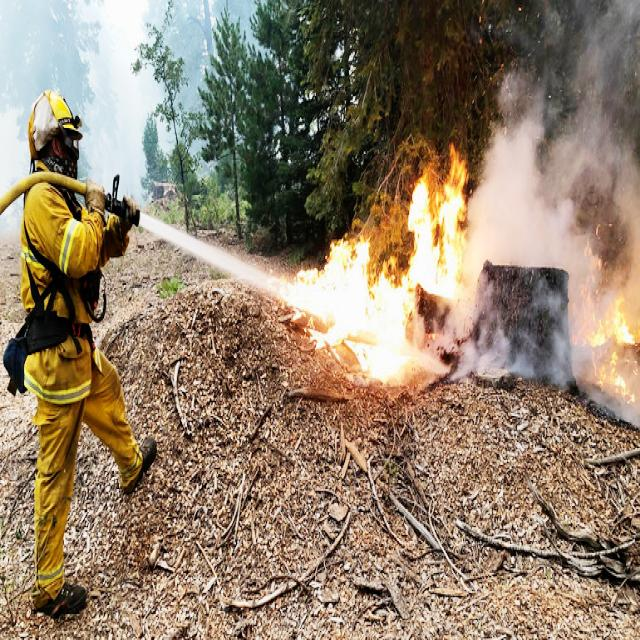api: (302, 238, 412, 384), (410, 168, 467, 304), (602, 362, 633, 399), (609, 314, 636, 351), (589, 301, 610, 348)
asap: (485, 1, 640, 283), (429, 337, 522, 382), (469, 194, 489, 330), (558, 301, 584, 396)
